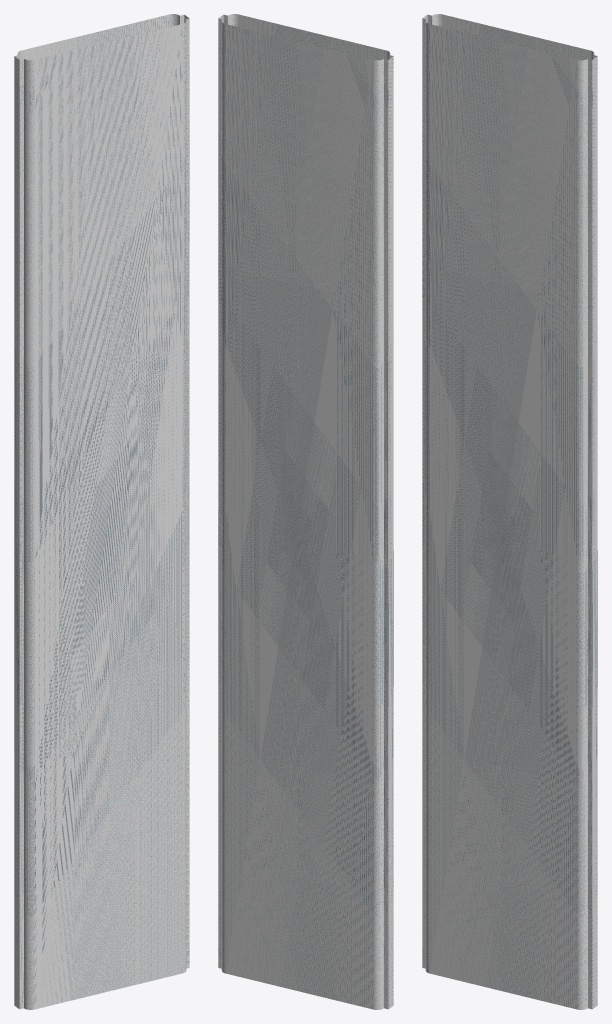
File: DoubleFixElem_ds_T1_075x010x400.dae
The picture shows the model from 3 angles, left to right: view 1: azimuth 30°, elevation 25°; view 2: azimuth 150°, elevation 25°; view 3: azimuth 330°, elevation 25°; orthographic projection.
Visible parts, largest first — view 1: SketchUp; view 2: SketchUp; view 3: SketchUp.
Boxes of the visible parts, bbox=[...] form: SketchUp: bbox=[14, 14, 189, 1009]; SketchUp: bbox=[218, 14, 393, 1009]; SketchUp: bbox=[422, 14, 597, 1009].
Size of the model in its own units: 29.53 by 3.94 by 157.
